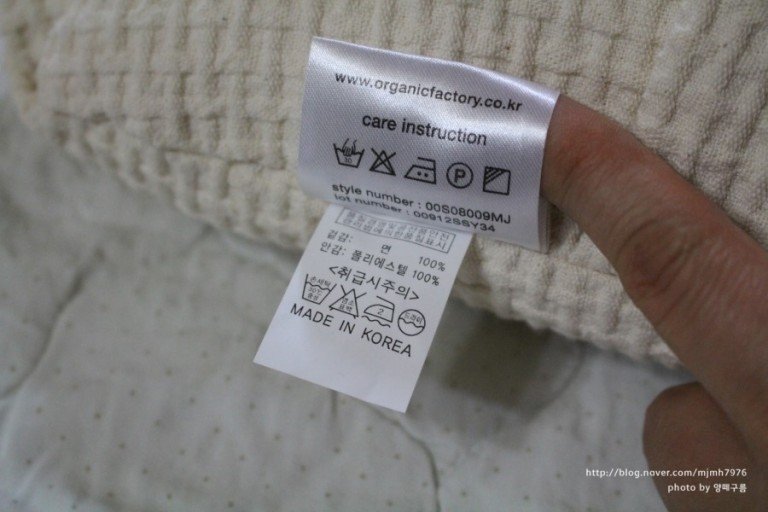ER_dry_clean_chemical: (445, 158, 475, 192)
ER_dry_in_shade: (480, 162, 514, 197)
ER_hand_wash: (331, 135, 365, 171)
ER_iron_medium_temp: (404, 152, 437, 186)
ER_no_bleach: (368, 146, 399, 177)
KR_dry_clean: (397, 307, 427, 338)
KR_hand_wash_30_neutral: (302, 272, 333, 306)
KR_no_chlorine_bleach: (330, 285, 359, 315)
